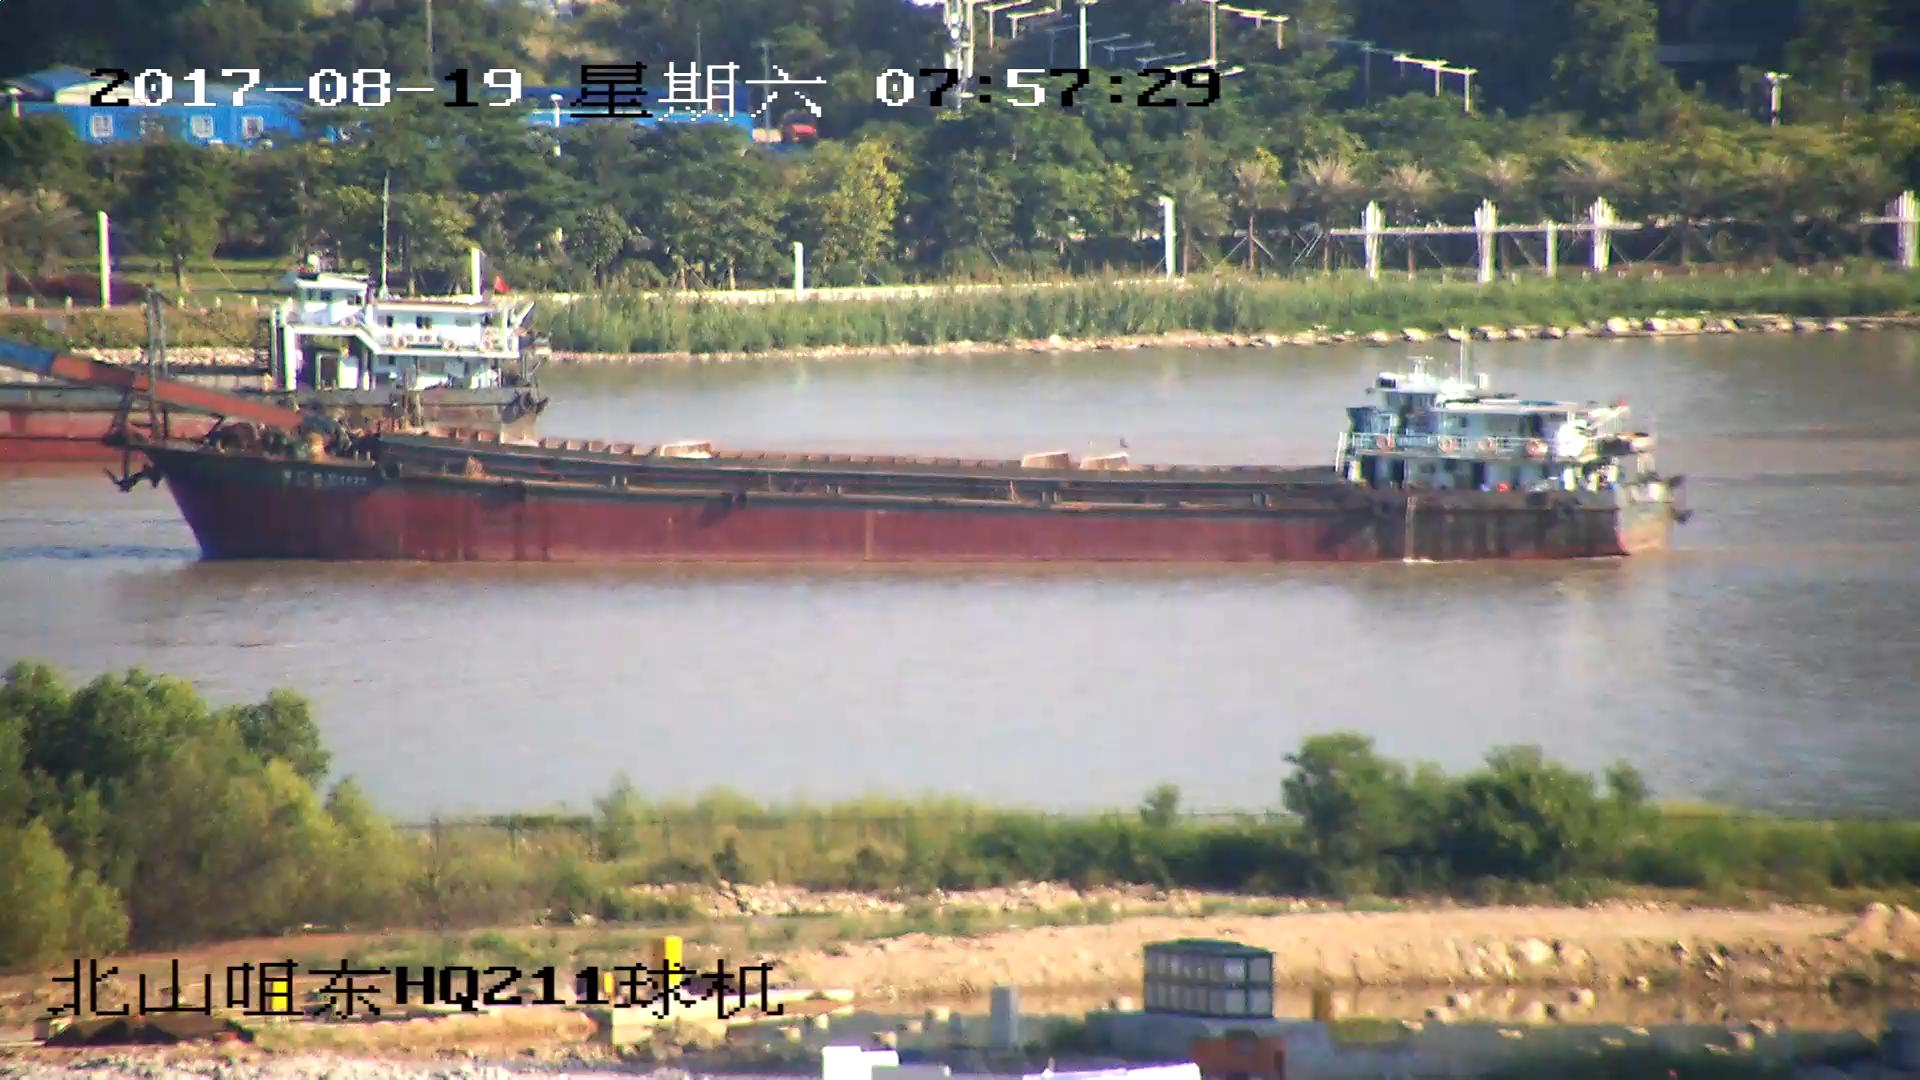bulk cargo carrier: (1, 288, 1694, 561), (1, 258, 544, 436)
